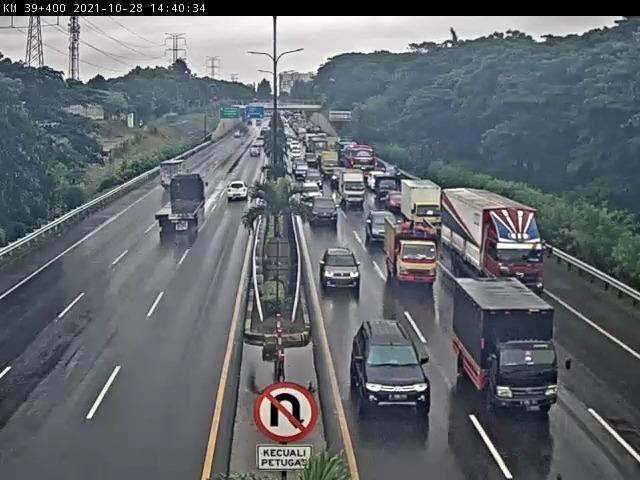car: (351, 321, 428, 414), (320, 250, 362, 289), (366, 211, 398, 243), (311, 196, 339, 227), (227, 179, 252, 199)
truck: (455, 279, 564, 411), (442, 190, 545, 293), (155, 174, 208, 237), (385, 223, 439, 284), (398, 178, 442, 230), (340, 171, 371, 204), (163, 161, 188, 190)
